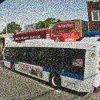buses: (1, 37, 100, 94)
